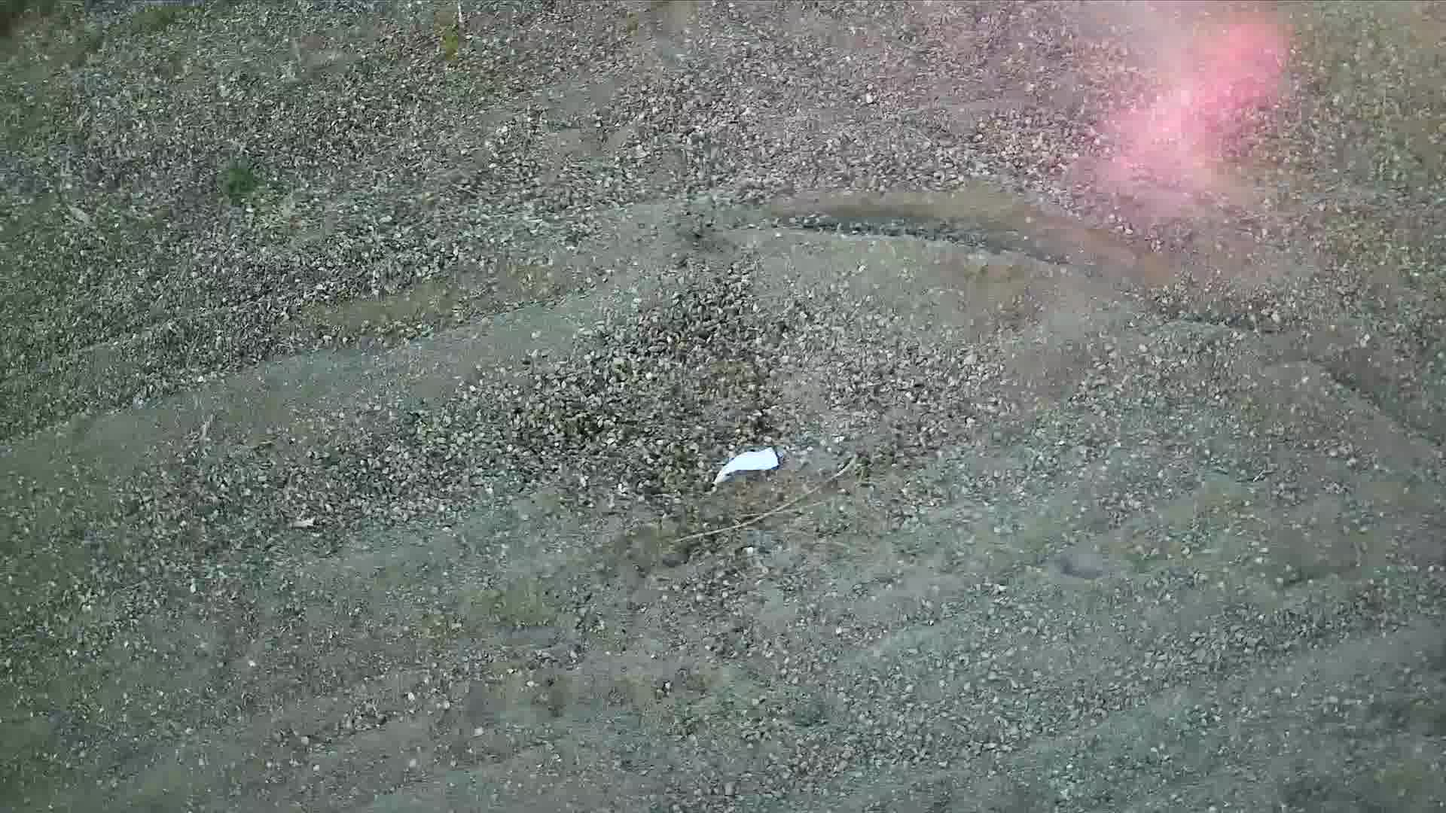Target: (713, 439, 777, 488)
